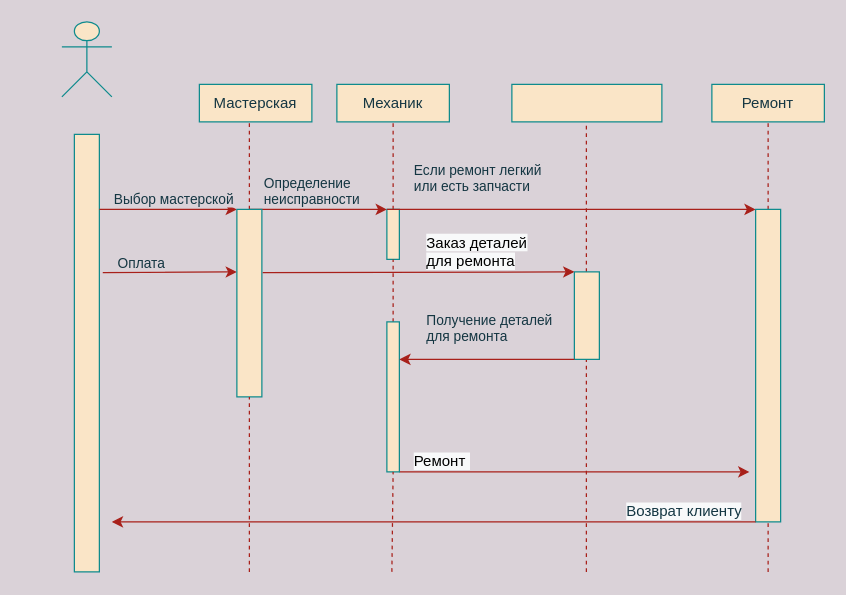
The diagram is 846 pixels wide and 595 high, and some of its shapes have lost their labels. Each missing label, with the box of its shape:
Владелец машины: (61, 21, 112, 97)
Магазин запчастей: (511, 83, 662, 122)
